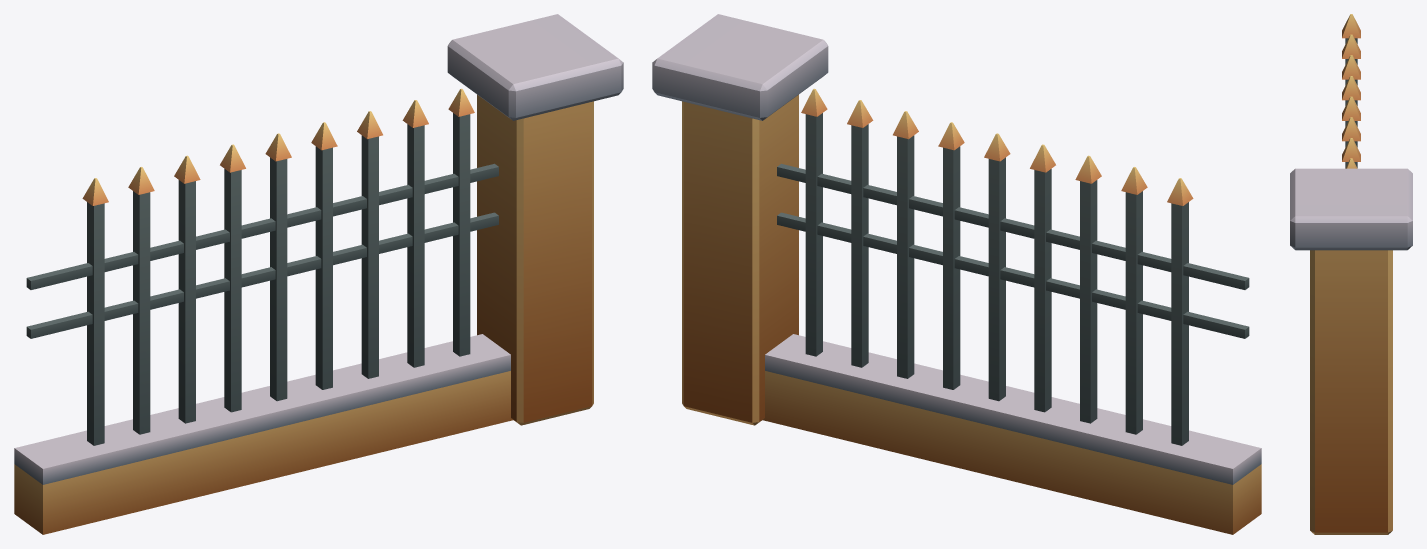
File: lpb_fence_3.fbx
The picture shows the model from 3 angles, left to right: view 1: azimuth 30°, elevation 25°; view 2: azimuth 150°, elevation 25°; view 3: azimuth 270°, elevation 25°; orthographic projection. The views are drawn at different scales.
Visible parts, largest first — view 1: fence3; view 2: fence3; view 3: fence3.
Boxes of the visible parts, x1,y1,x2,y2 form: fence3: [14, 14, 623, 534]; fence3: [652, 14, 1261, 534]; fence3: [1290, 14, 1412, 534].
Size of the model in its own units: 557 by 333 by 113.
